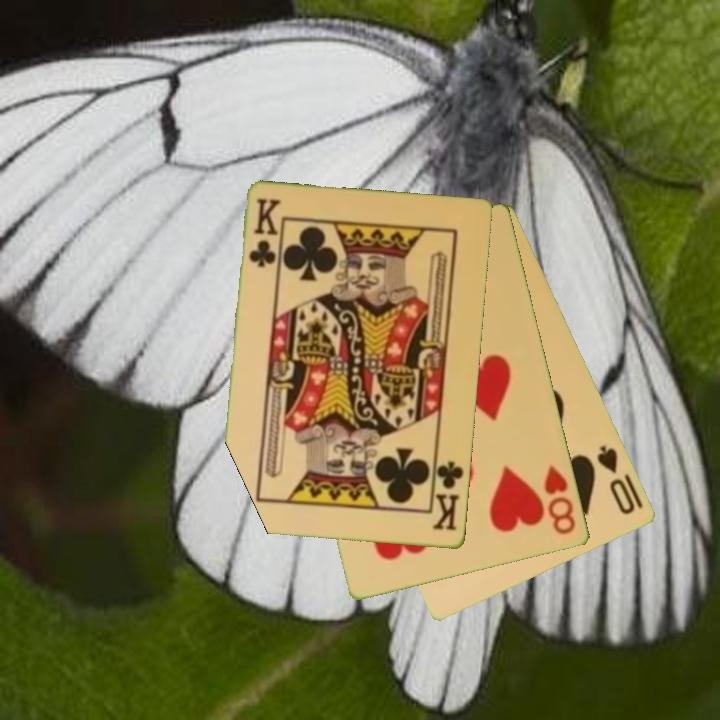10s: (594, 442, 639, 518)
8h: (541, 462, 579, 538)
Kc: (429, 453, 467, 534), (245, 195, 283, 270)
